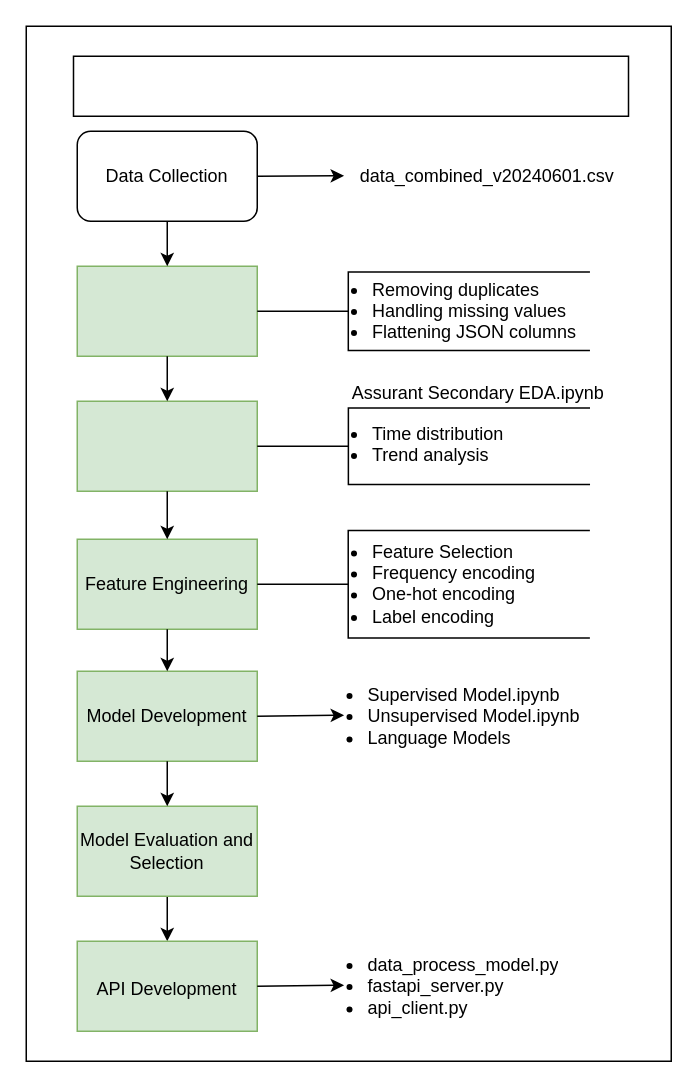
The diagram is 698 pixels wide and 1088 high, and some of its shapes have lost their labels. The shapes that lost their labels are listed below. From the top down, each one's centre as x and y in pixels, then its label:
At (x=350, y=85): "Assurant Practicum Project - Architecture".
At (x=166, y=310): "Data Collection and Preparation".
At (x=166, y=445): "Exploratory Data Analysis".
